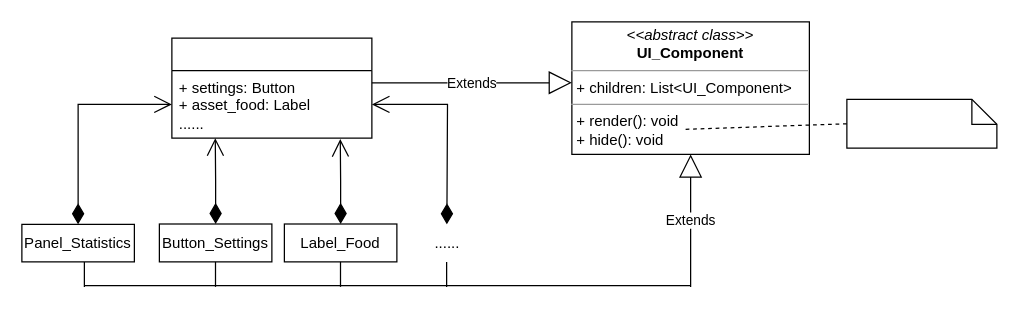
Some shapes in this 1019 by 331 pixel diagram are drawn without their labels. The box of each missing label's shape, as (x1, y1, x2, y2) in pixels:
UI: (171, 37, 372, 138)
对子物体递归调用: (846, 98, 997, 148)
